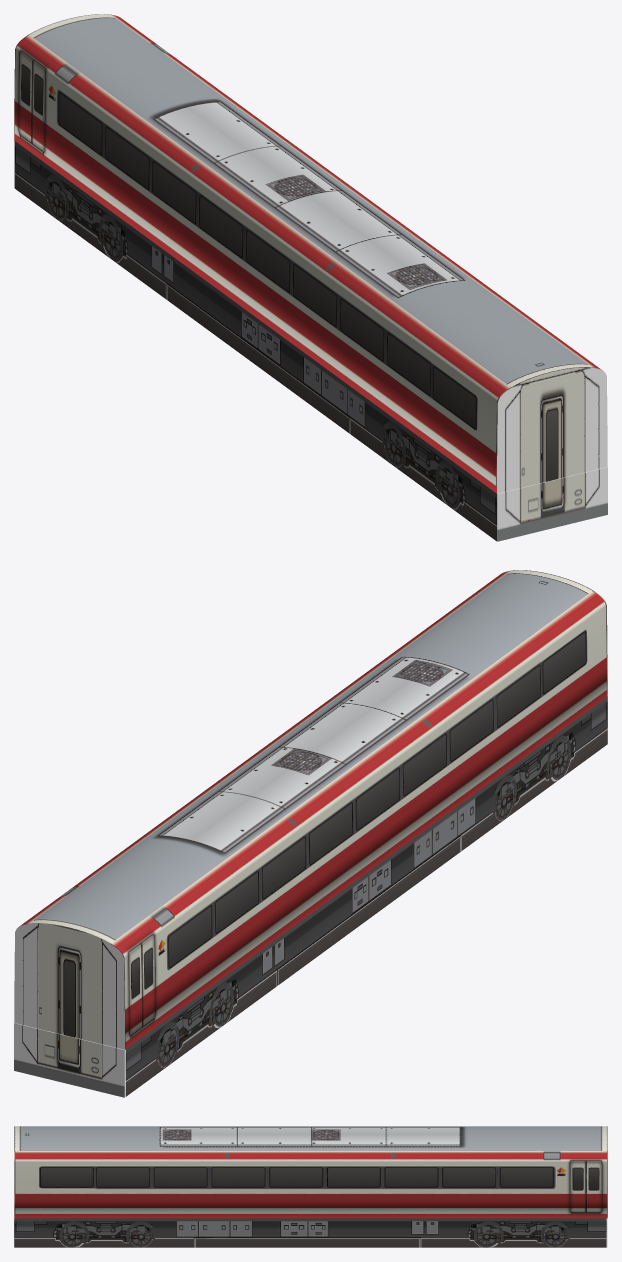
File: car2.glb
3 views of the same model, one above another, from view 1: azimuth 30°, elevation 25°; view 2: azimuth 150°, elevation 25°; view 3: azimuth 270°, elevation 25° (orthographic). The views are drawn at different scales.
Visible parts, largest first — view 1: nankai-11000-car2; view 2: nankai-11000-car2; view 3: nankai-11000-car2.
Part boxes in pixels (x1,y1,x2,y2): nankai-11000-car2: [14, 14, 607, 541]; nankai-11000-car2: [14, 570, 607, 1097]; nankai-11000-car2: [14, 1126, 607, 1247].
Size of the model in its own units: 2.74 by 3.7 by 20.75.
9 materials, 8 textured.
